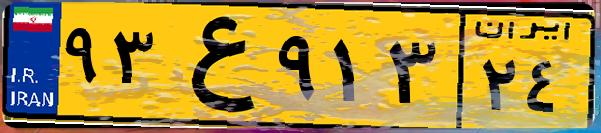1: (330, 28, 385, 110)
2: (475, 38, 525, 113)
3: (385, 28, 445, 110), (110, 28, 158, 98)
4: (525, 38, 570, 115)
9: (270, 28, 330, 110), (57, 26, 110, 100)
ع: (158, 12, 270, 120)
